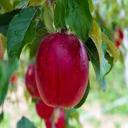apple: (34, 33, 90, 109)
